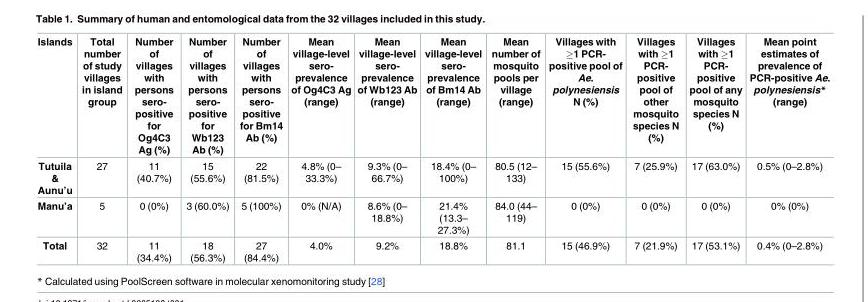table: (37, 36, 830, 262)
table column: (746, 36, 830, 262), (544, 36, 627, 262), (287, 36, 354, 262), (354, 36, 421, 262), (421, 36, 486, 262), (684, 36, 746, 262), (486, 36, 544, 262), (627, 36, 684, 262), (180, 36, 234, 262), (234, 36, 287, 262), (128, 36, 180, 262), (77, 36, 128, 262), (37, 36, 77, 262)
table column header: (37, 36, 830, 157)
table row: (37, 36, 830, 157), (37, 157, 830, 198), (37, 198, 830, 237), (37, 237, 830, 262)
